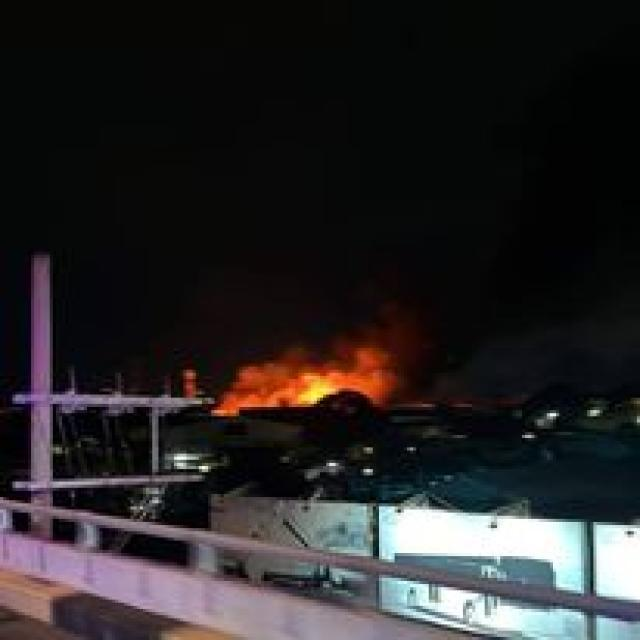Fire: (241, 369, 398, 412)
Smoke: (515, 84, 640, 311), (310, 302, 470, 388), (434, 255, 538, 338)
